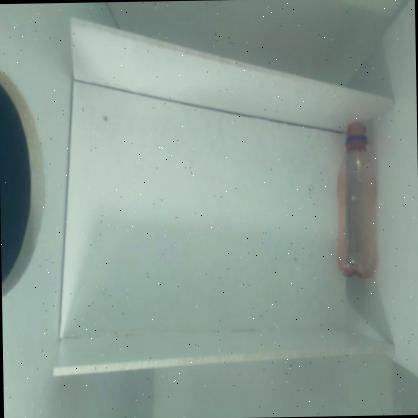bottle: (326, 100, 390, 297)
